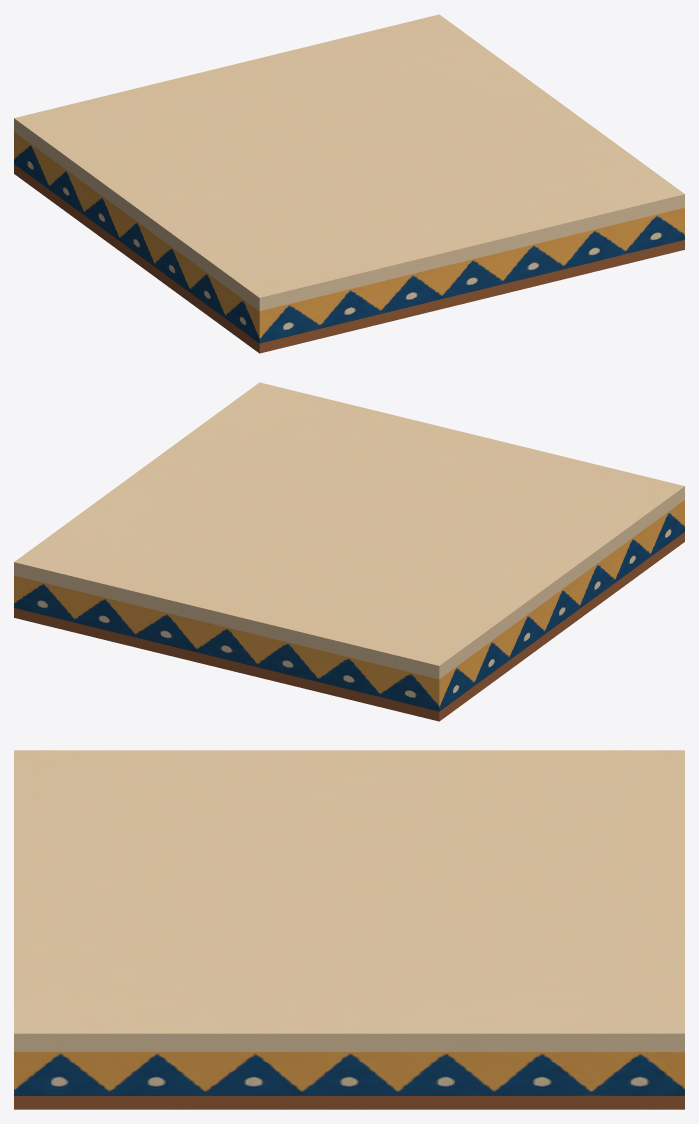
File: rc_wa_platform_8x8x1.glb
3 views of the same model, one above another, from view 1: azimuth 30°, elevation 25°; view 2: azimuth 150°, elevation 25°; view 3: azimuth 270°, elevation 25° (orthographic). The views are drawn at different scales.
Parts seen in each view (by area): view 1: SM_RC_WA_RaisedPlatform_8x8x1; view 2: SM_RC_WA_RaisedPlatform_8x8x1; view 3: SM_RC_WA_RaisedPlatform_8x8x1.
Part boxes in pixels (box(x1,y1,x2,y2)): SM_RC_WA_RaisedPlatform_8x8x1: box(14, 14, 684, 353); SM_RC_WA_RaisedPlatform_8x8x1: box(14, 382, 684, 721); SM_RC_WA_RaisedPlatform_8x8x1: box(14, 750, 684, 1109).
Size of the model in its own units: 8 by 1 by 8.
Materials: 1 (1 with a texture image).
